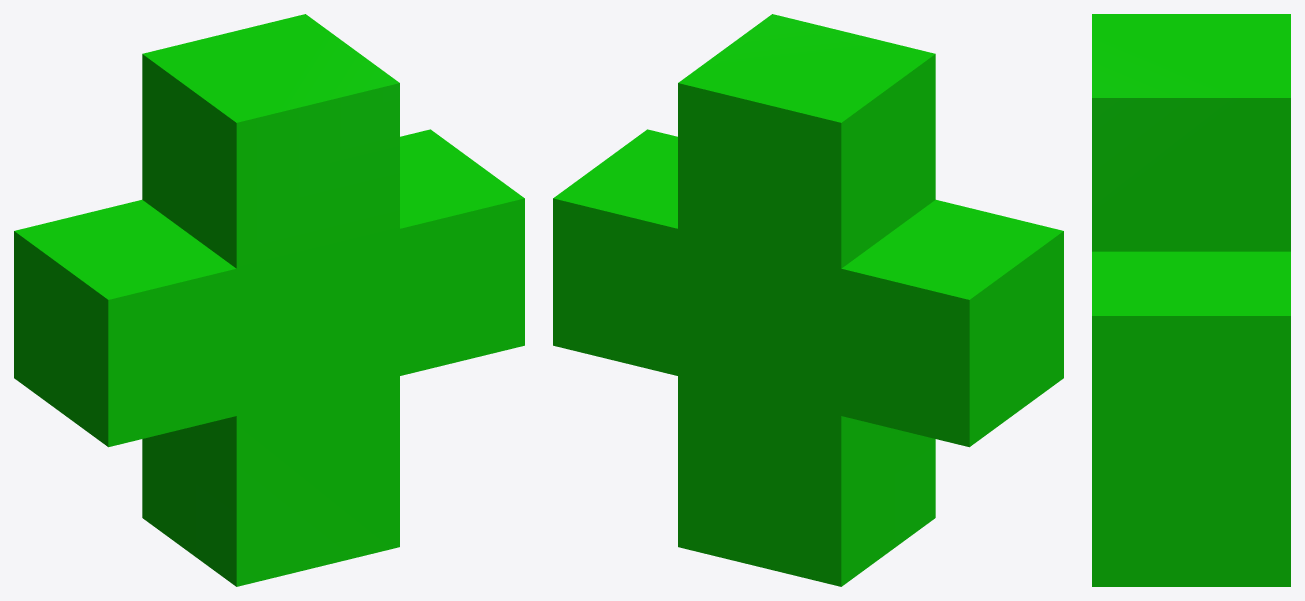
File: Bonus.glb
3 views of the same model, side by side, from view 1: azimuth 30°, elevation 25°; view 2: azimuth 150°, elevation 25°; view 3: azimuth 270°, elevation 25° (orthographic). The views are drawn at different scales.
Parts seen in each view (by area): view 1: Cube; view 2: Cube; view 3: Cube.
Boxes of the visible parts, left/top/right/bottom form: Cube: left=14, top=14, right=524, bottom=586; Cube: left=553, top=14, right=1063, bottom=586; Cube: left=1092, top=14, right=1290, bottom=586.
Size of the model in its own units: 3.34 by 3.56 by 1.31.
